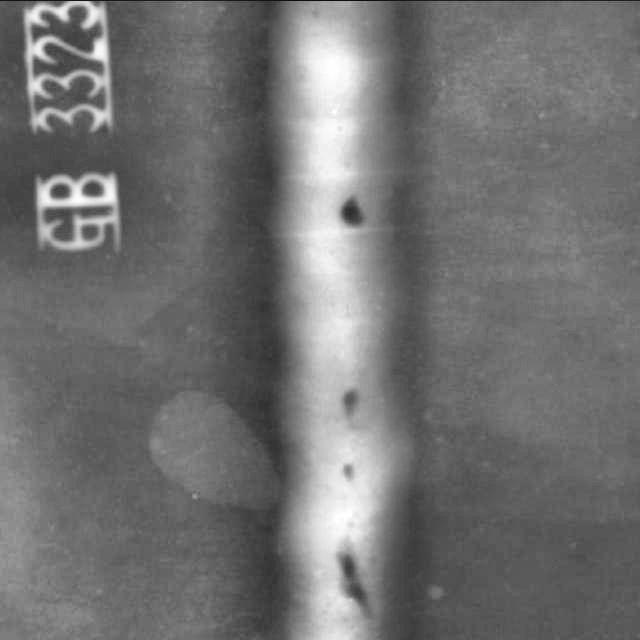Slag: (326, 380, 388, 627), (324, 175, 377, 237)
